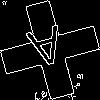A: (25, 25, 69, 78)
